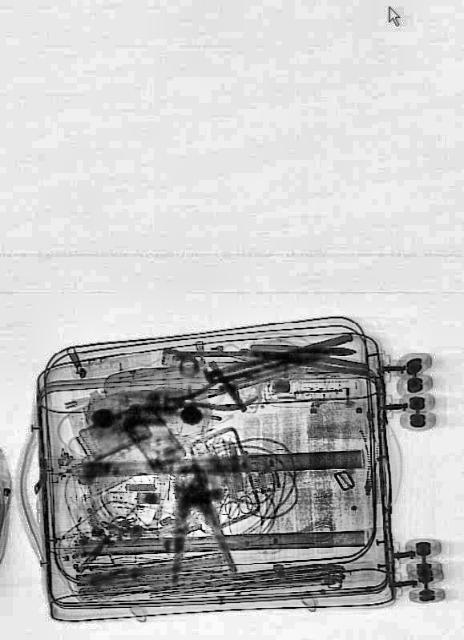Pliers: (154, 458, 238, 588), (151, 363, 257, 429), (272, 343, 366, 373)
